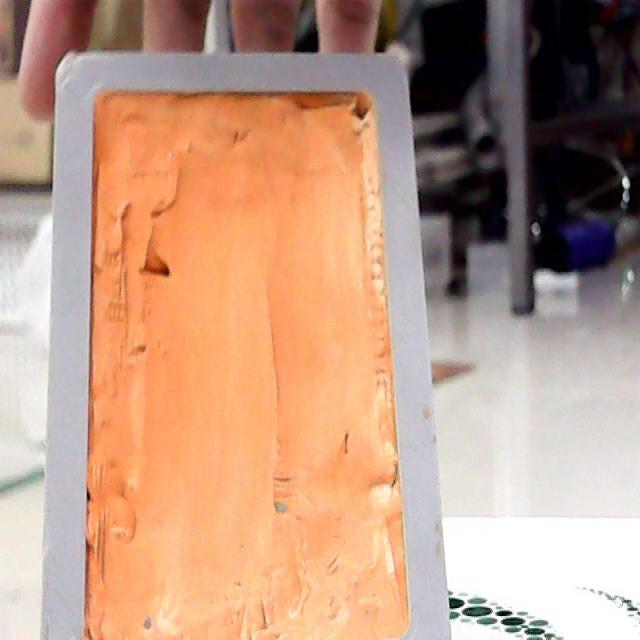block: (41, 49, 454, 640)
